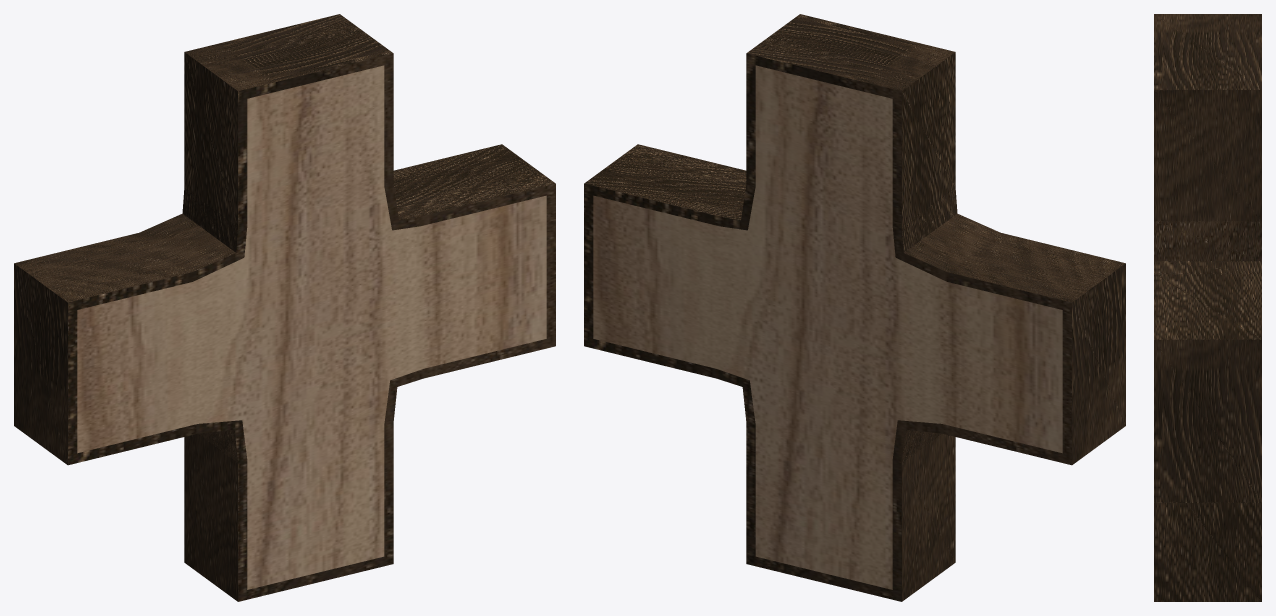
Rendered from Plus.FBX.
3 views of the same model, side by side, from view 1: azimuth 30°, elevation 25°; view 2: azimuth 150°, elevation 25°; view 3: azimuth 270°, elevation 25° (orthographic).
Visible parts, largest first — view 1: Plus, Plus_outline; view 2: Plus, Plus_outline; view 3: Plus_outline.
Boxes of the visible parts, x1=… form: Plus: x1=77, y1=65, x2=546, y2=589; Plus_outline: x1=14, y1=14, x2=555, y2=601; Plus: x1=593, y1=65, x2=1062, y2=589; Plus_outline: x1=584, y1=14, x2=1125, y2=601; Plus_outline: x1=1154, y1=14, x2=1261, y2=601.
Size of the model in its own units: 52.4 by 52.4 by 10.
2 materials, 2 textured.
